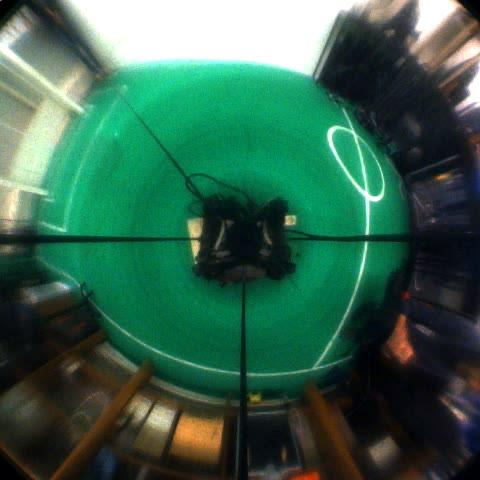ball: (246, 391, 263, 404)
person: (24, 2, 109, 85)
robot: (0, 218, 41, 259)
